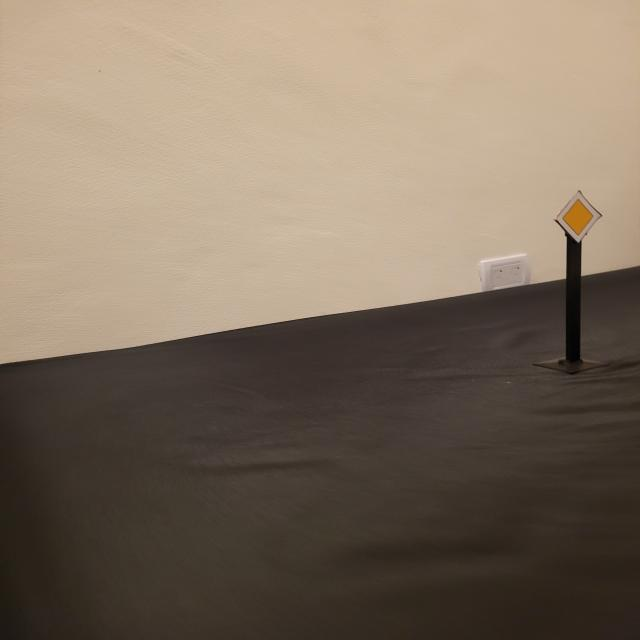priority: (553, 190, 602, 244)
